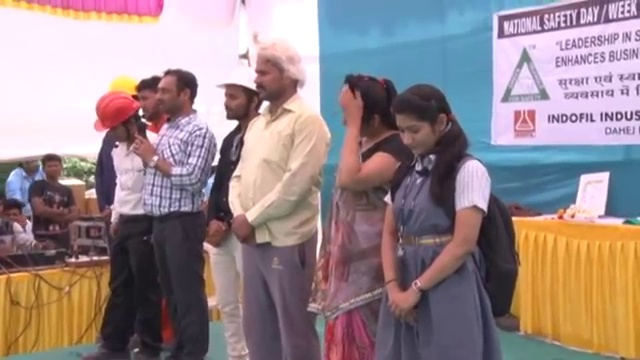helmet: (93, 92, 144, 133), (215, 64, 255, 93), (109, 76, 141, 99)
helmet_off: (390, 84, 458, 167), (338, 71, 401, 142), (245, 40, 310, 108), (155, 68, 199, 116), (132, 79, 165, 123), (0, 192, 26, 226), (42, 155, 63, 180), (21, 161, 39, 177)
helmet_on: (93, 92, 143, 143), (214, 62, 255, 122)
person: (382, 76, 526, 360), (225, 41, 331, 359), (327, 57, 412, 360), (79, 93, 167, 360), (142, 66, 217, 360), (205, 65, 256, 360), (28, 154, 78, 238), (0, 192, 38, 260), (6, 158, 45, 206)
